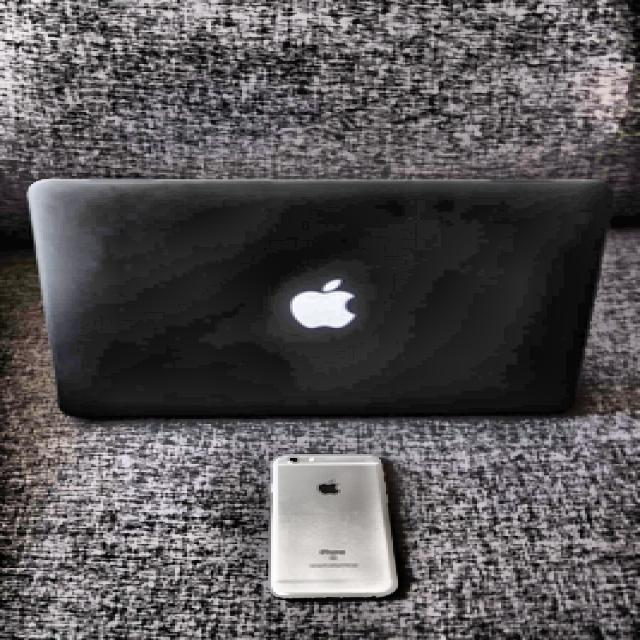Phone: (266, 452, 398, 598)
